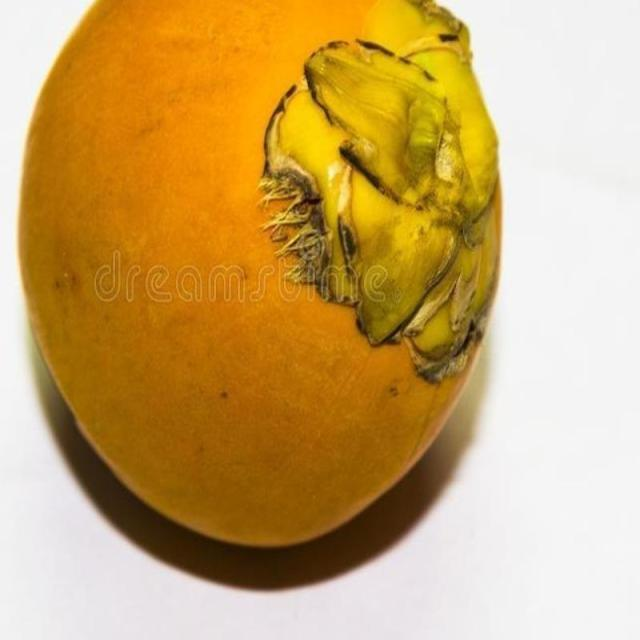good: (16, 0, 505, 556)
